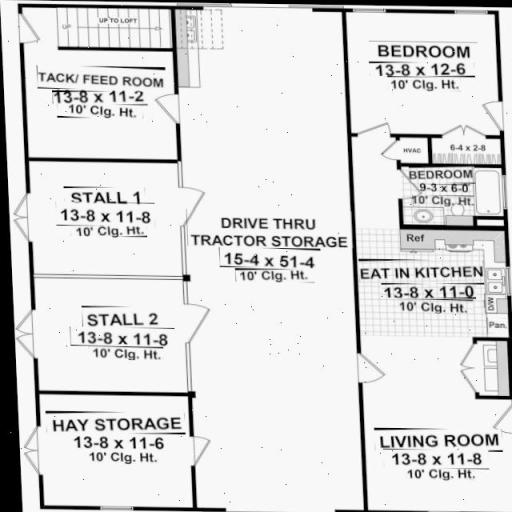Room: (24, 7, 175, 161), (48, 285, 196, 398), (36, 168, 182, 280), (50, 404, 180, 512)
bedroom: (356, 19, 512, 135), (364, 141, 510, 254)
hall: (373, 429, 508, 512)
kitchen: (367, 262, 507, 408)
